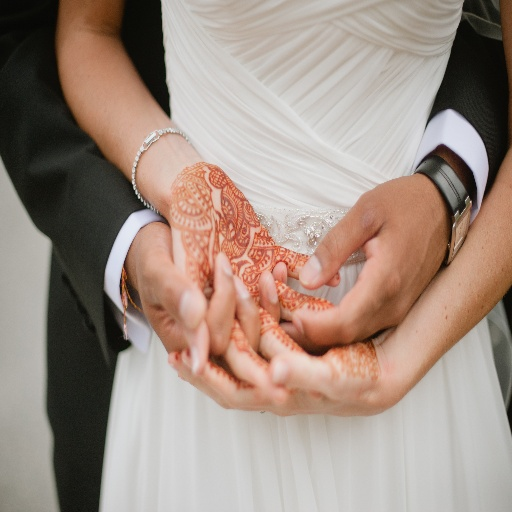hand: (168, 155, 341, 408), (278, 176, 447, 356), (134, 222, 288, 362), (169, 340, 387, 418)
